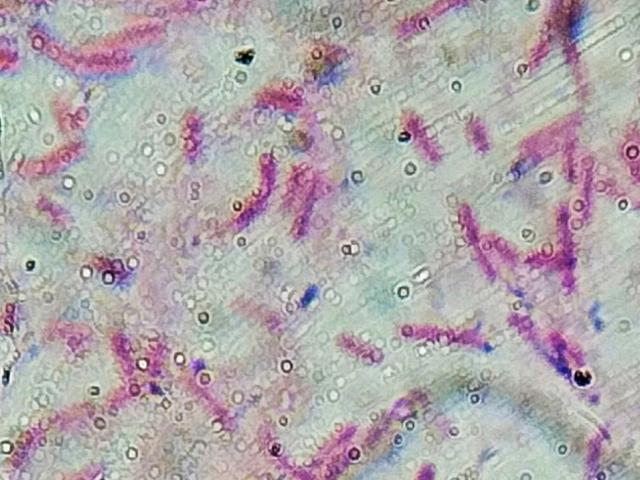E. coli: (509, 309, 582, 368), (403, 320, 493, 357), (8, 416, 66, 465), (398, 107, 442, 170), (188, 375, 242, 426), (235, 286, 285, 341), (241, 149, 274, 232), (452, 213, 490, 285), (559, 7, 591, 91), (401, 0, 457, 46), (48, 46, 128, 78), (308, 430, 362, 473), (555, 199, 581, 287), (169, 103, 203, 169), (516, 113, 584, 144), (31, 140, 88, 176), (333, 330, 389, 363), (65, 390, 134, 416), (528, 2, 553, 72), (102, 15, 159, 45), (359, 405, 397, 449), (33, 185, 74, 225), (298, 177, 319, 241), (259, 77, 297, 112), (141, 336, 170, 379), (579, 159, 598, 213), (111, 335, 136, 374), (285, 162, 305, 209), (488, 226, 514, 261), (408, 450, 438, 480), (528, 245, 568, 265), (53, 99, 81, 127), (465, 115, 485, 149), (562, 133, 576, 174)
